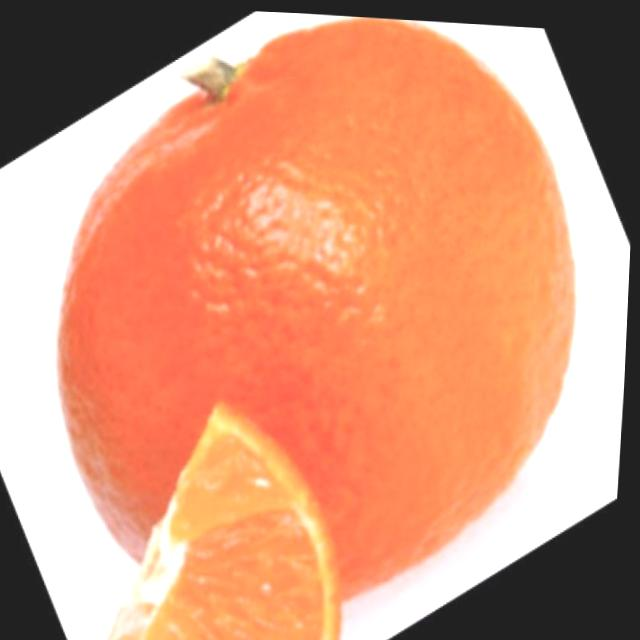Orange: (44, 2, 593, 610), (106, 392, 359, 640)
